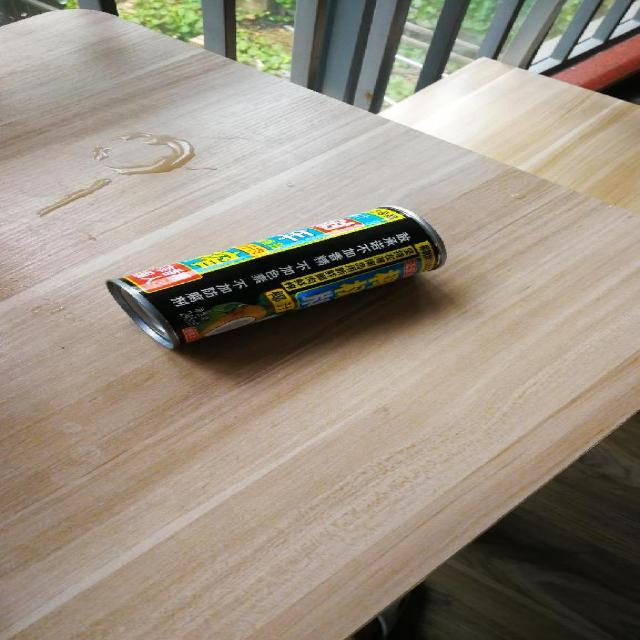-Recyclables - can-: (108, 205, 455, 350)
